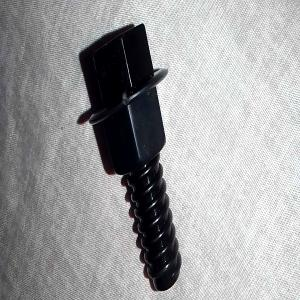parafuso: (88, 22, 178, 291)
